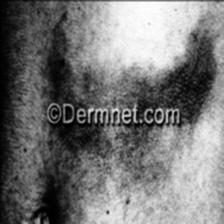Unclassified: (86, 126, 174, 166), (172, 34, 208, 94)
